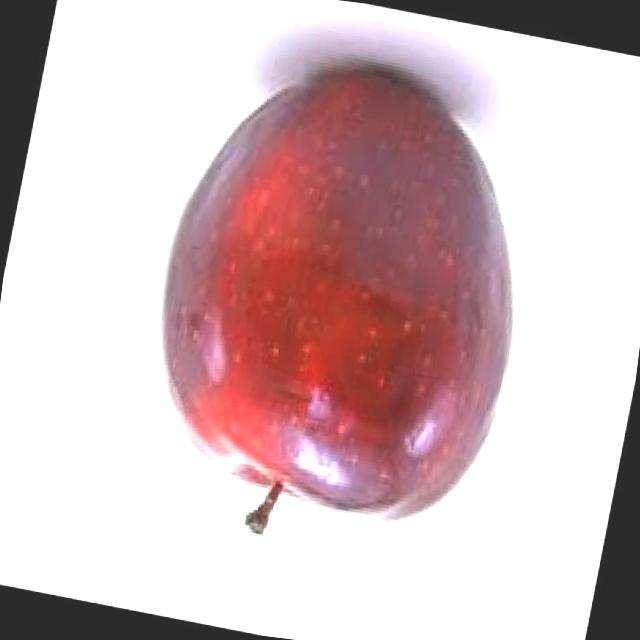Apple: (81, 4, 582, 604)
